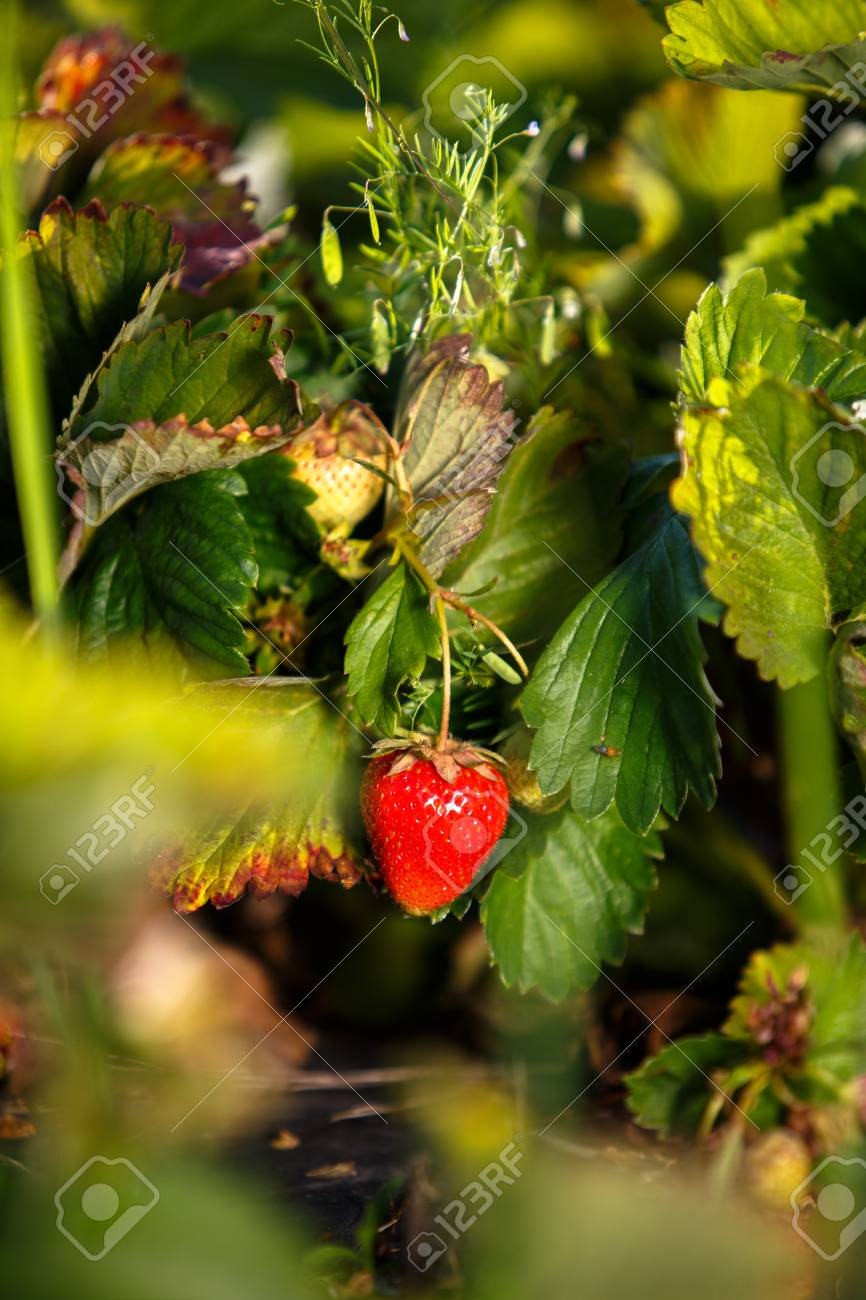ripe_strawberry: (355, 727, 517, 923)
unripe_strawberry: (279, 409, 392, 539)
